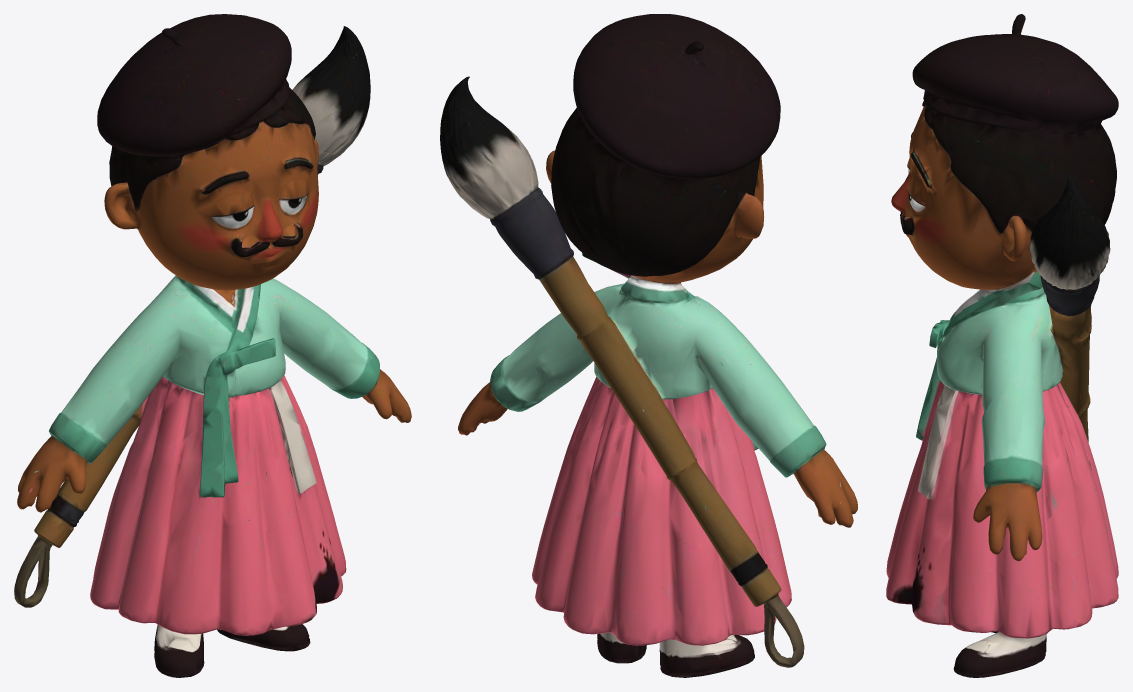
The model's file is hero-saimdang-v1.glb.
3 views of the same model, side by side, from view 1: azimuth 30°, elevation 25°; view 2: azimuth 150°, elevation 25°; view 3: azimuth 270°, elevation 25° (orthographic). The views are drawn at different scales.
Bounding box in the file's own units: 1.24 × 1.9 × 0.6581.
1 material, 1 textured.
